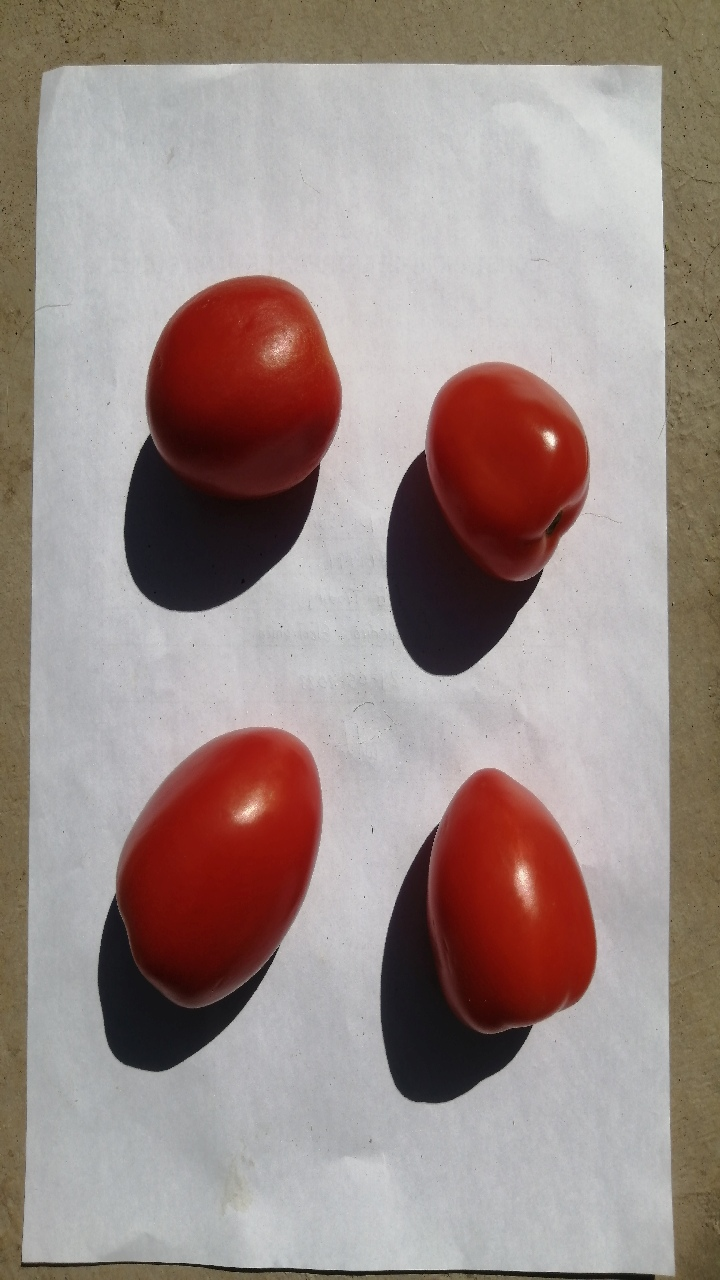tomateRojo: (83, 699, 343, 1037), (400, 751, 618, 1049), (131, 242, 354, 514), (412, 329, 608, 595)
